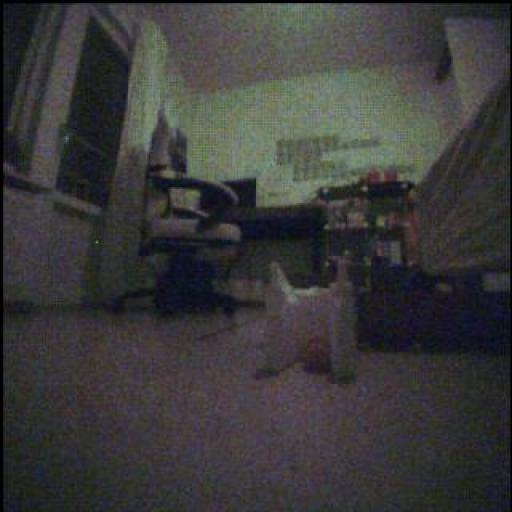basket: (303, 335, 332, 374)
